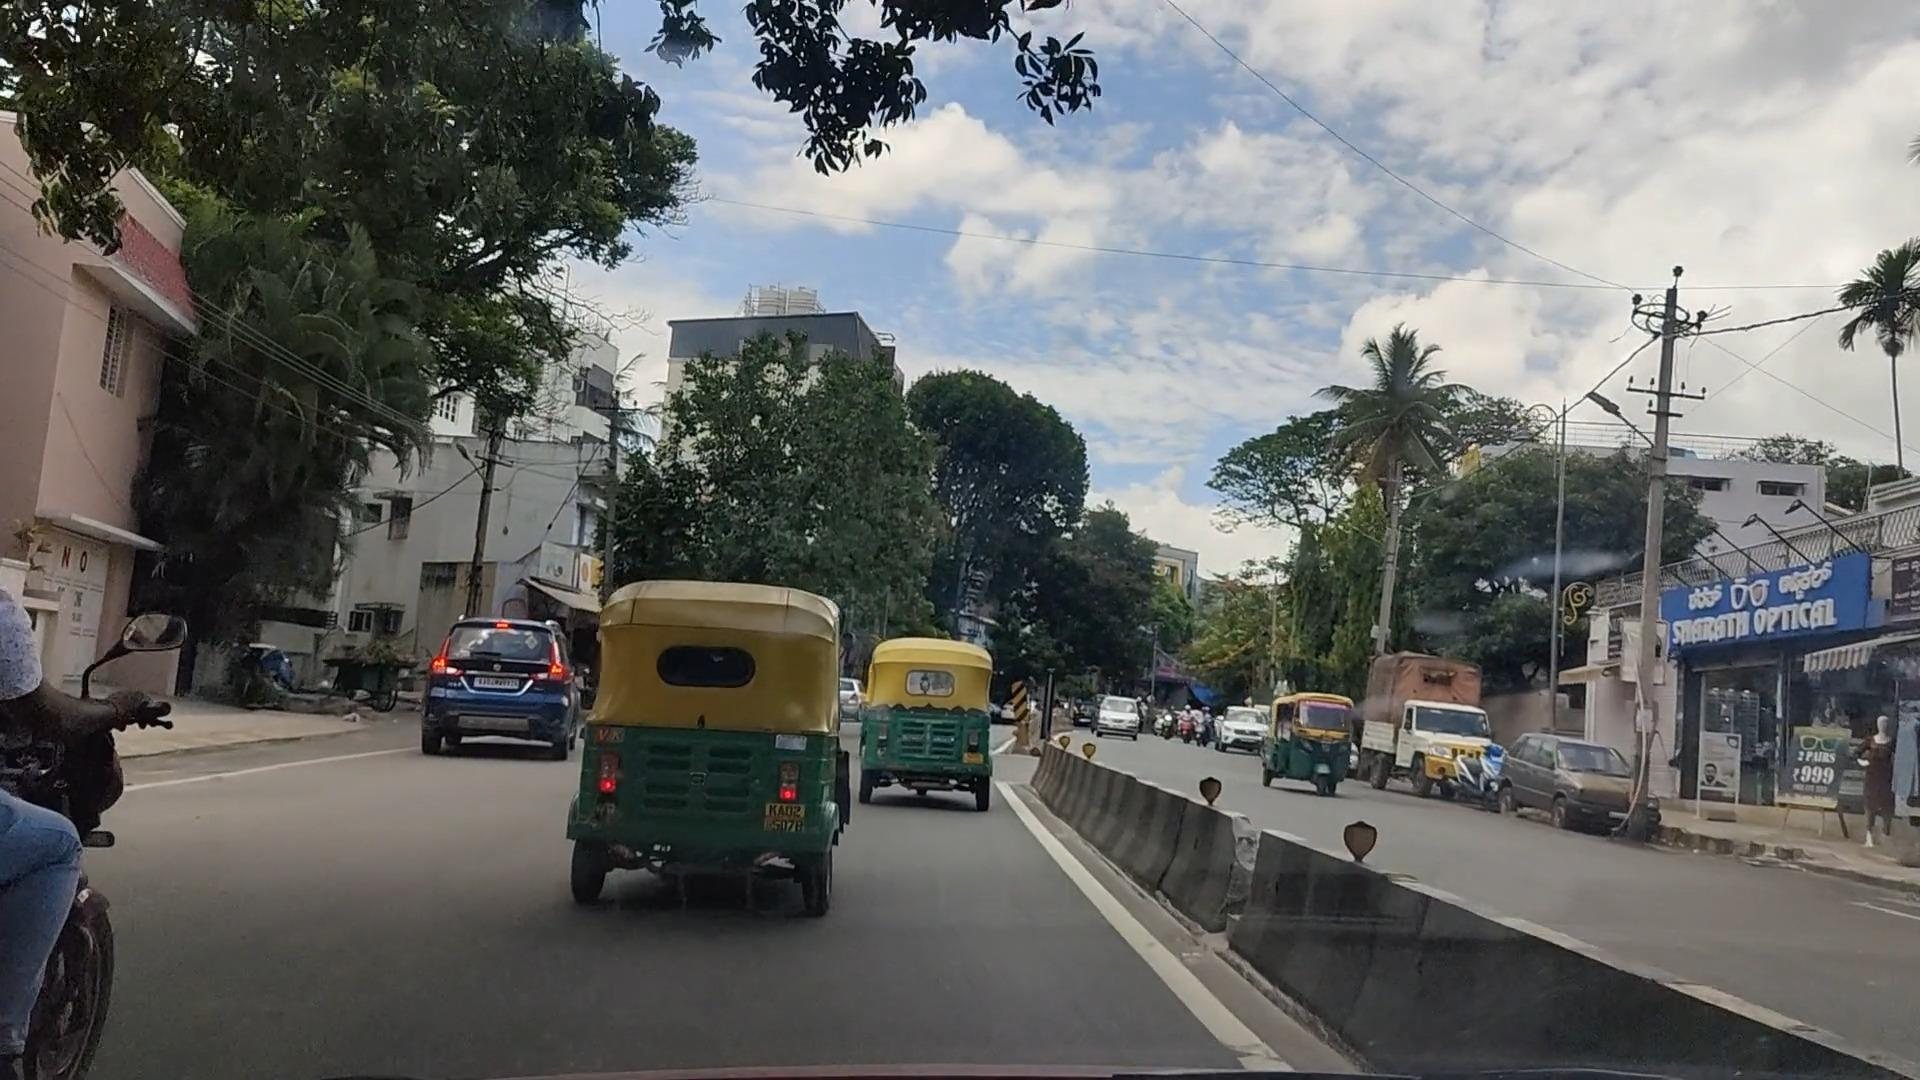LMV: (593, 578, 835, 926), (876, 600, 1007, 843), (426, 605, 575, 770)
